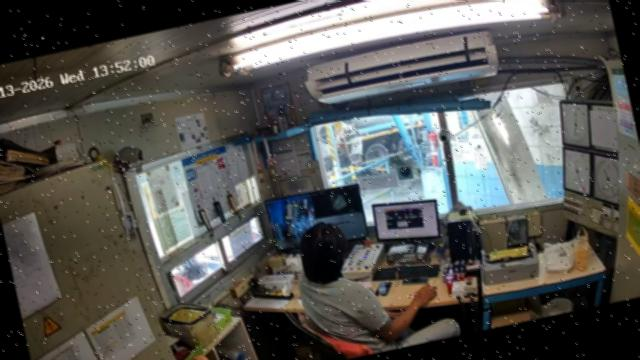Head: (300, 222, 349, 283)
People: (299, 223, 461, 357)
Phone: (375, 282, 393, 295), (401, 277, 430, 285)
